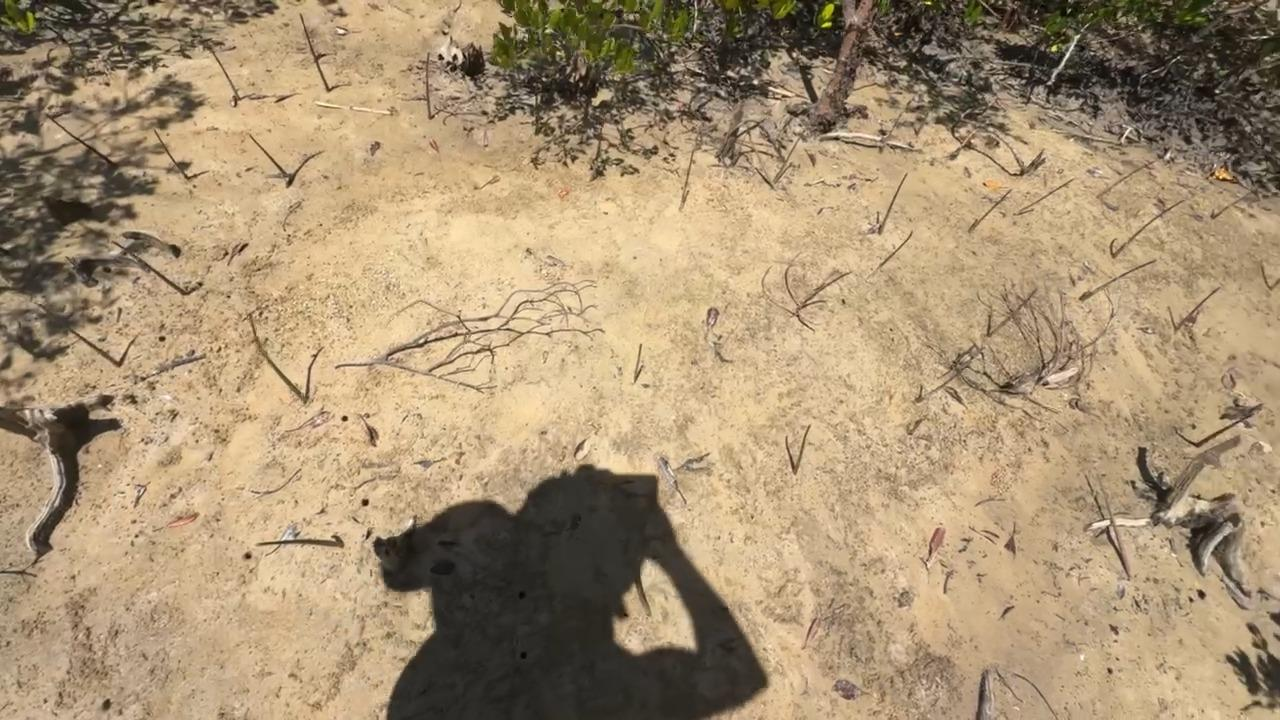Tree: (34, 301, 122, 368), (248, 312, 307, 404), (109, 237, 188, 295), (1110, 199, 1185, 258), (915, 346, 989, 402), (1096, 472, 1133, 582), (45, 113, 116, 166), (1078, 259, 1158, 301), (1095, 156, 1161, 198), (297, 12, 332, 91), (986, 286, 1037, 337), (1192, 409, 1255, 449), (1012, 178, 1073, 216), (797, 270, 853, 310), (1175, 286, 1221, 332), (968, 188, 1014, 231), (772, 129, 807, 184), (153, 128, 190, 180), (878, 172, 909, 234), (206, 44, 240, 98), (247, 133, 288, 176), (878, 229, 914, 270), (1210, 188, 1253, 219), (878, 108, 906, 154), (256, 535, 345, 549), (948, 126, 981, 159), (793, 423, 813, 474), (426, 52, 433, 119), (916, 109, 932, 136), (630, 364, 646, 383), (1269, 276, 1280, 292)
